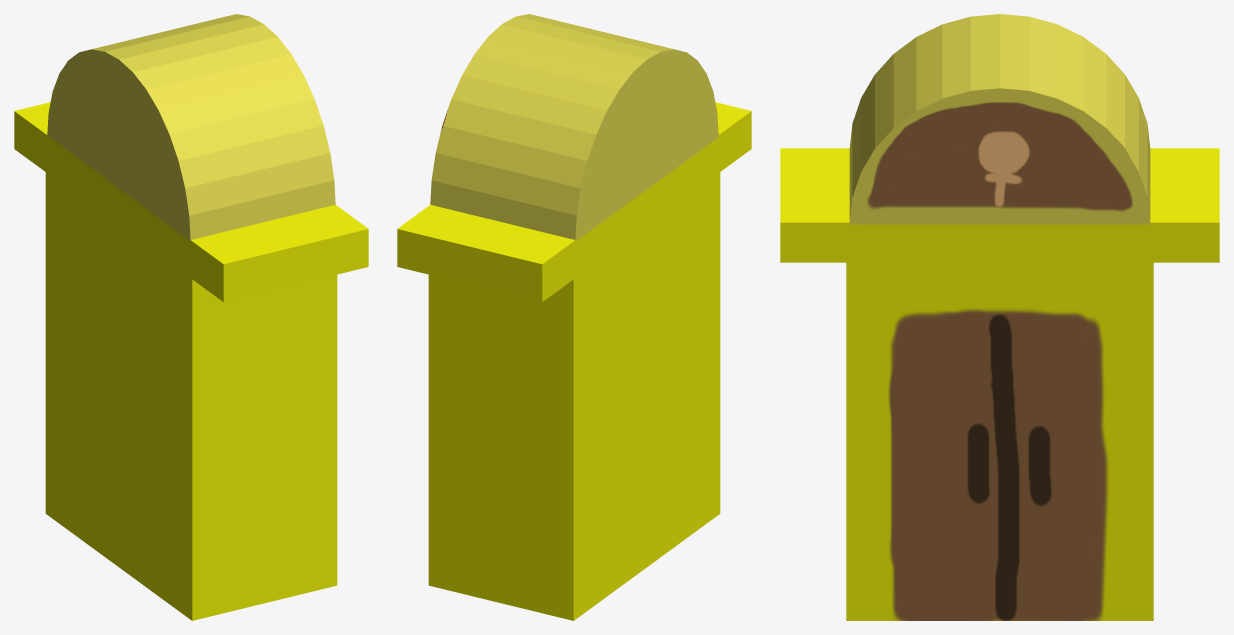
File: Door.obj
3 views of the same model, side by side, from view 1: azimuth 30°, elevation 25°; view 2: azimuth 150°, elevation 25°; view 3: azimuth 270°, elevation 25° (orthographic). The views are drawn at different scales.
Visible parts, largest first — view 1: Cube, 円柱, Cube.002; view 2: Cube, 円柱, Cube.002; view 3: Cube, 円柱, Cube.002.
Part boxes in pixels (x1,y1,x2,y2): Cube: (45,172,337,620); 円柱: (47,14,335,241); Cube.002: (14,102,368,302); Cube: (428,172,720,620); 円柱: (430,14,718,241); Cube.002: (397,102,751,302); Cube: (846,262,1153,620); 円柱: (849,14,1150,224); Cube.002: (780,148,1219,262).
Bounding box in the file's own units: 4 × 13.37 × 10.
Materials: 3 (3 with a texture image).
